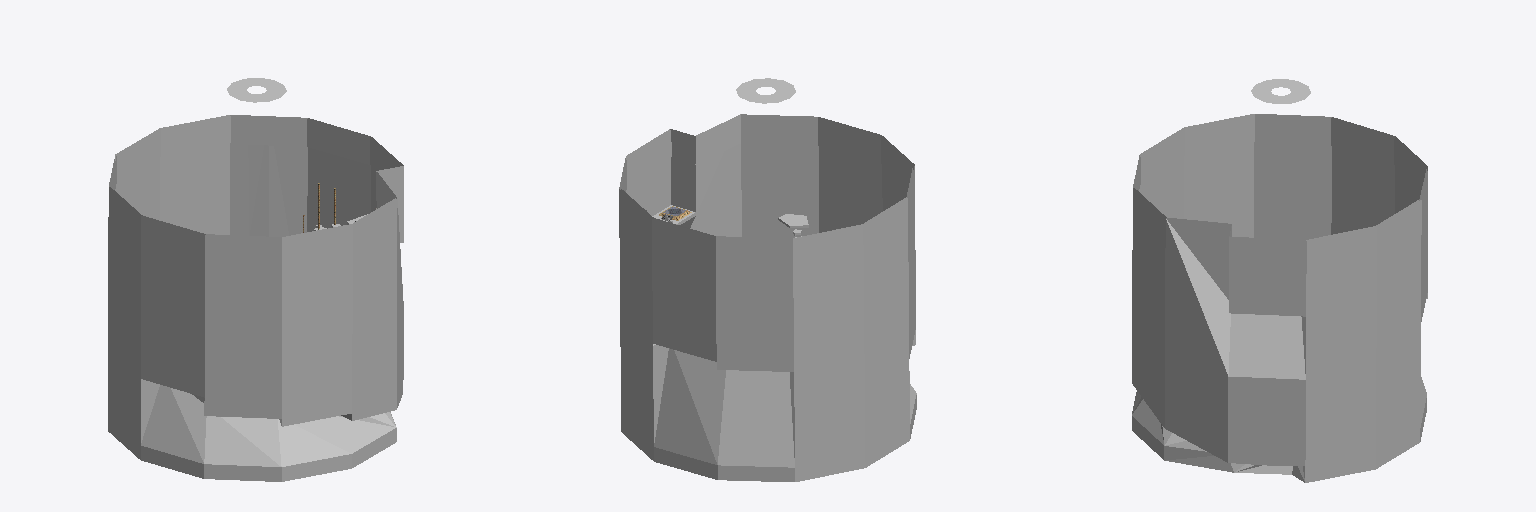
3 views of the same model, side by side, from view 1: azimuth 30°, elevation 25°; view 2: azimuth 150°, elevation 25°; view 3: azimuth 270°, elevation 25° (orthographic).
Visible parts, largest first — view 1: 000_51ED067A_c.bmp, 042_70E8CDE_c.bmp, 002_68E1A622_c.bmp, 046_273462A4_c.bmp, 010_default; view 2: 000_51ED067A_c.bmp, 042_70E8CDE_c.bmp, 002_68E1A622_c.bmp, 010_default; view 3: 000_51ED067A_c.bmp, 042_70E8CDE_c.bmp, 002_68E1A622_c.bmp, 010_default.
Part boxes in pixels (x1,y1,x2,y2): 000_51ED067A_c.bmp: (108, 115, 403, 466); 042_70E8CDE_c.bmp: (110, 116, 401, 237); 002_68E1A622_c.bmp: (108, 417, 396, 481); 046_273462A4_c.bmp: (248, 116, 289, 236); 010_default: (227, 78, 286, 102); 000_51ED067A_c.bmp: (619, 114, 916, 467); 042_70E8CDE_c.bmp: (621, 115, 912, 238); 002_68E1A622_c.bmp: (621, 395, 916, 481); 010_default: (736, 78, 795, 103); 000_51ED067A_c.bmp: (1132, 114, 1427, 467); 042_70E8CDE_c.bmp: (1134, 114, 1426, 240); 002_68E1A622_c.bmp: (1132, 398, 1426, 482); 010_default: (1251, 79, 1310, 103).
Bounding box in the file's own units: 6.04 × 7.4 × 6.03.
13 materials, 6 textured.